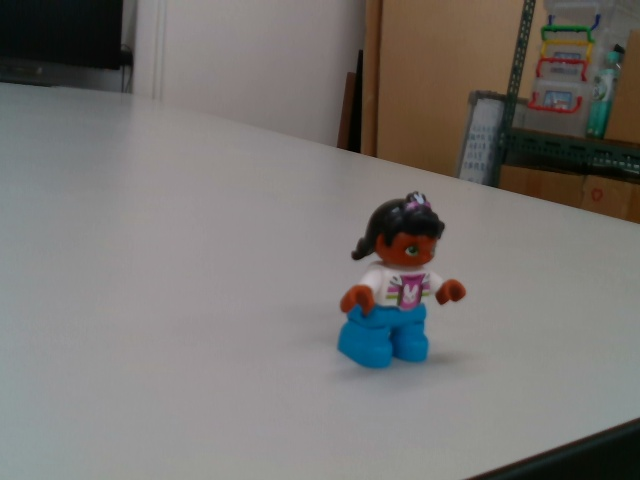people: (333, 187, 470, 374)
